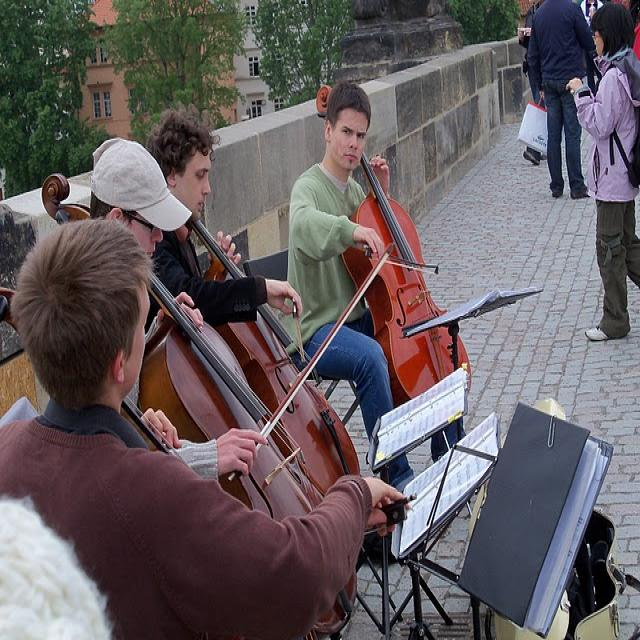cello: (42, 175, 358, 638), (140, 218, 360, 504), (315, 86, 473, 404)
